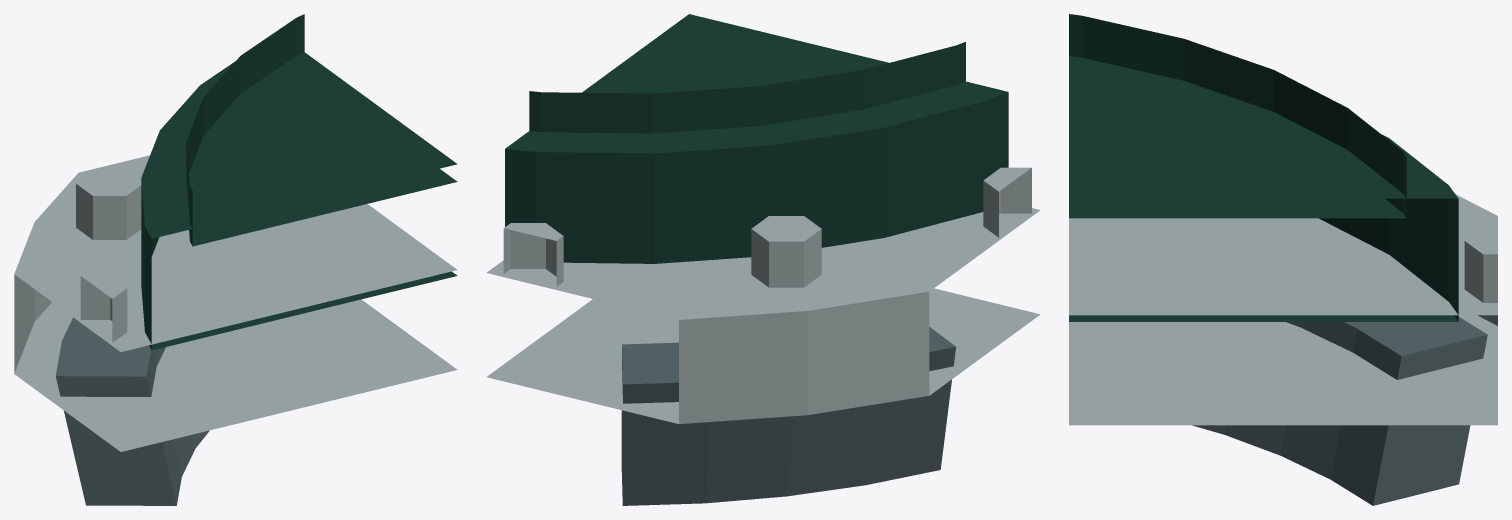
Rendered from cell_156.obj.
3 views of the same model, side by side, from view 1: azimuth 30°, elevation 25°; view 2: azimuth 150°, elevation 25°; view 3: azimuth 270°, elevation 25° (orthographic). The views are drawn at different scales.
Bounding box in the file's own units: 1 × 1 × 1.
